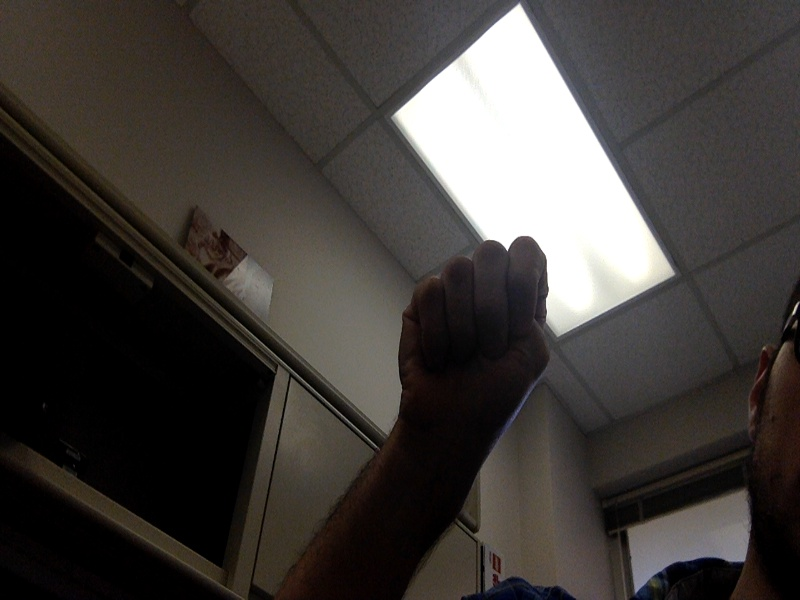0-hand: (398, 239, 551, 434)
